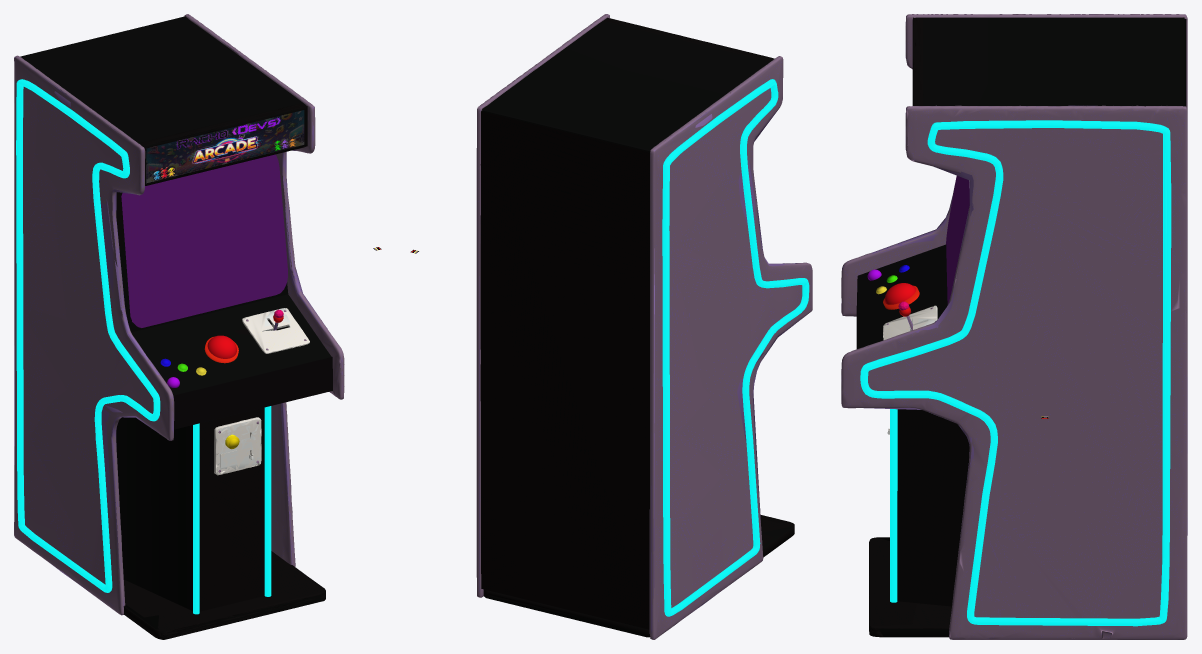
File: rachoArcade.glb
3 views of the same model, side by side, from view 1: azimuth 30°, elevation 25°; view 2: azimuth 150°, elevation 25°; view 3: azimuth 270°, elevation 25° (orthographic). The views are drawn at different scales.
Visible parts, largest first — view 1: Part_7.214, ExoSkeleton, MAIN SCREEN, Body, Sweep_NURBS_NEON_0, ArcadeTopBanner, Front Board, Part_5, Sphere; view 2: Part_7.214, ExoSkeleton, Body, Sweep_NURBS_NEON_0; view 3: Part_7.214, ExoSkeleton, Sweep_NURBS_NEON_0, Body, MAIN SCREEN, Sphere.
Part boxes in pixels (bbox=[...]): Part_7.214: bbox=[14, 14, 381, 639]; ExoSkeleton: bbox=[14, 16, 342, 637]; MAIN SCREEN: bbox=[121, 154, 287, 327]; Body: bbox=[16, 79, 270, 614]; Sweep_NURBS_NEON_0: bbox=[17, 79, 271, 614]; ArcadeTopBanner: bbox=[146, 110, 304, 183]; Front Board: bbox=[173, 357, 332, 429]; Part_5: bbox=[146, 110, 304, 182]; Sphere: bbox=[207, 335, 236, 358]; Part_7.214: bbox=[410, 14, 812, 639]; ExoSkeleton: bbox=[479, 19, 801, 637]; Body: bbox=[662, 79, 809, 616]; Sweep_NURBS_NEON_0: bbox=[663, 79, 807, 616]; Part_7.214: bbox=[841, 14, 1187, 639]; ExoSkeleton: bbox=[841, 14, 1187, 637]; Sweep_NURBS_NEON_0: bbox=[860, 120, 1171, 625]; Body: bbox=[860, 120, 1171, 626]; MAIN SCREEN: bbox=[946, 176, 969, 304]; Sphere: bbox=[884, 283, 915, 304].
Size of the model in its own units: 108 by 161 by 94.82.
Materials: 14 (6 with a texture image).
